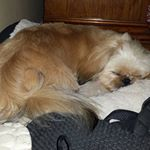puppy: (72, 28, 150, 95)
